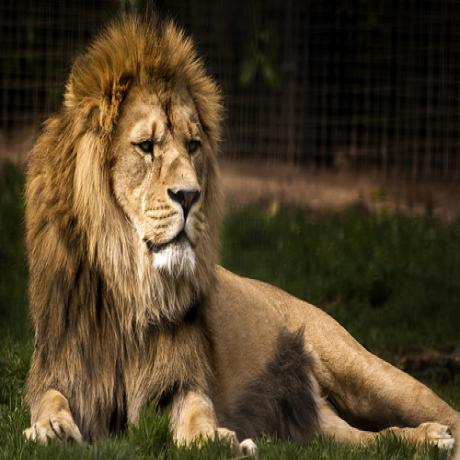Lion: (25, 14, 460, 460)
